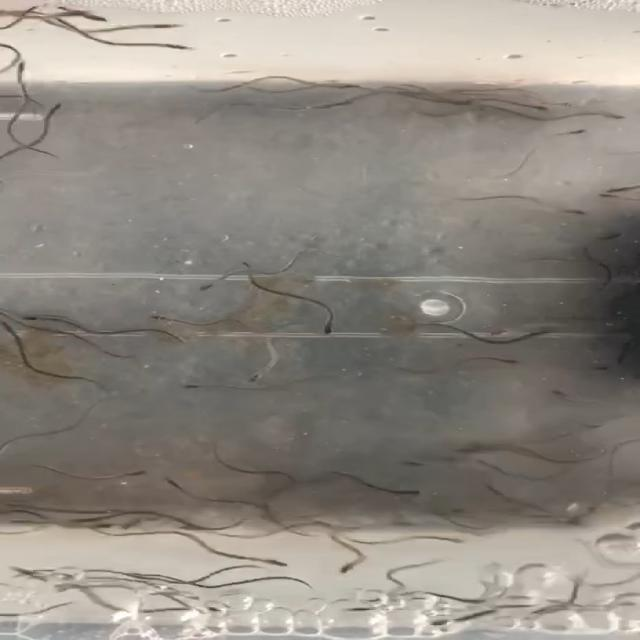active_glass_eel: (45, 7, 106, 24), (432, 91, 477, 110), (113, 514, 157, 533), (418, 616, 469, 632), (334, 556, 371, 578), (127, 22, 188, 34), (154, 471, 188, 492), (148, 38, 195, 53), (0, 560, 37, 578), (33, 101, 68, 120), (191, 603, 238, 617), (312, 98, 358, 112), (461, 444, 510, 457), (320, 79, 364, 93), (348, 603, 391, 617), (179, 378, 221, 392), (0, 316, 29, 336), (248, 368, 279, 386), (69, 512, 106, 527), (194, 277, 223, 296), (482, 480, 511, 499), (430, 532, 469, 545), (400, 459, 446, 470), (562, 508, 590, 526), (442, 505, 473, 521), (113, 464, 146, 479), (593, 112, 628, 126), (558, 204, 593, 218), (6, 515, 38, 530), (12, 60, 38, 78), (146, 312, 185, 324), (255, 556, 293, 568), (20, 312, 55, 325), (547, 384, 575, 400), (555, 128, 592, 140), (600, 183, 640, 194), (483, 355, 523, 366), (580, 361, 616, 373), (592, 190, 624, 203), (487, 326, 523, 337), (320, 318, 339, 338), (552, 97, 574, 113), (398, 489, 432, 499), (524, 104, 554, 115)
